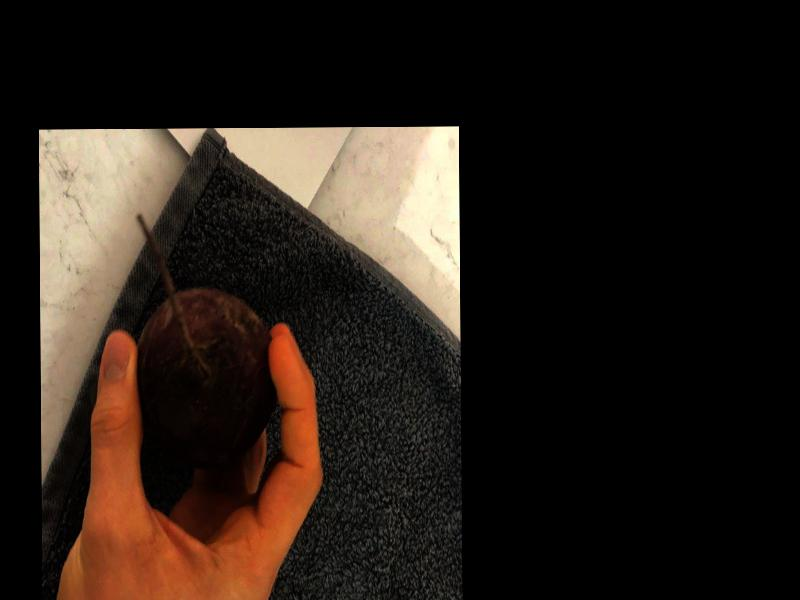Beet: (135, 212, 276, 468)
